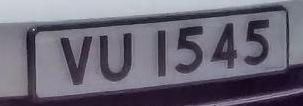1: (145, 22, 178, 82)
4: (207, 15, 244, 78)
5: (170, 18, 209, 79), (239, 12, 274, 72)
U: (94, 27, 137, 87)
V: (55, 29, 101, 91)
